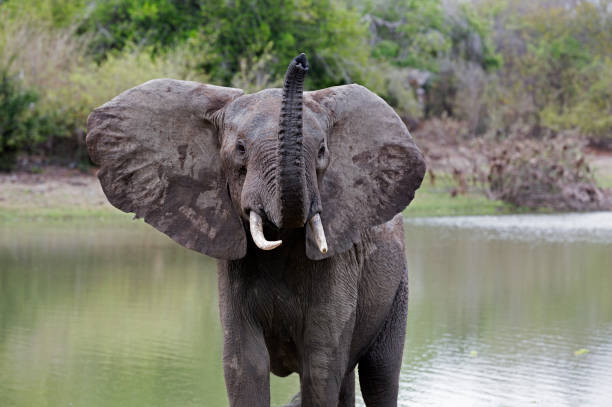africanelephant: (206, 77, 352, 270)
